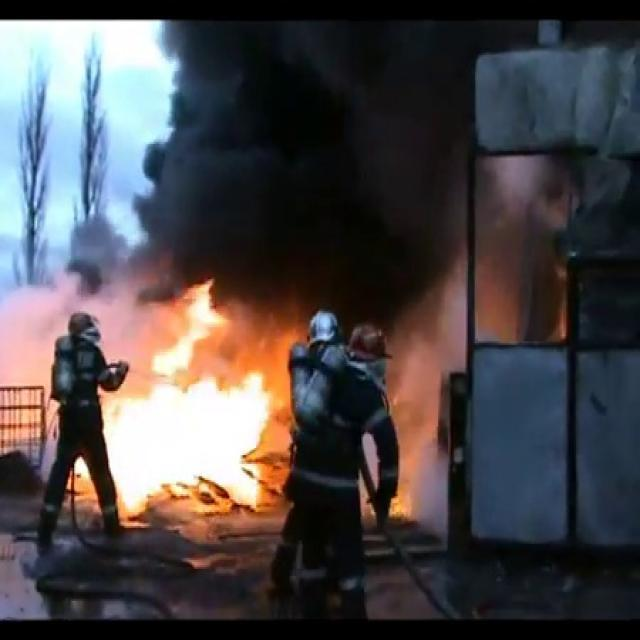Fire: (99, 278, 286, 516)
Smoke: (127, 18, 475, 324)
